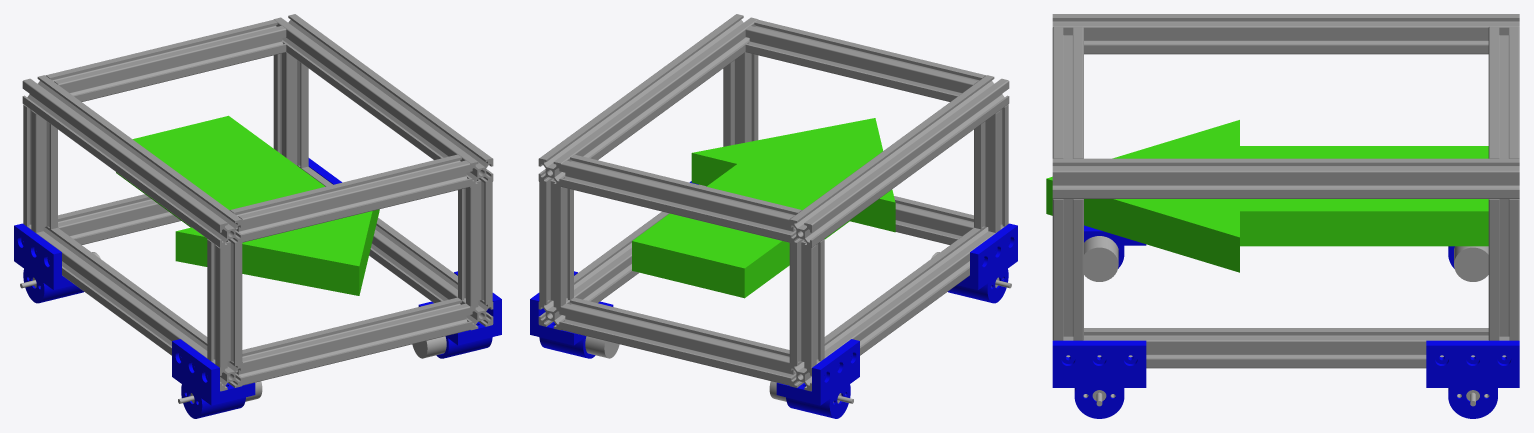
File: Chassis.dae
3 views of the same model, side by side, from view 1: azimuth 30°, elevation 25°; view 2: azimuth 150°, elevation 25°; view 3: azimuth 270°, elevation 25° (orthographic). The views are drawn at different scales.
Visible parts, largest first — view 1: 2020 300mm (×4), 2020 200mm (×4), Part 1, 2020 100mm (×4), Motor Mount (×3), Motor; view 2: 2020 300mm (×4), 2020 200mm (×4), Part 1, 2020 100mm (×4), Motor Mount (×3), Motor; view 3: 2020 300mm (×3), Part 1, Motor Mount (×3), 2020 100mm (×2), 2020 200mm (×2), Motor (×2).
Part boxes in pixels (x1,y1,x2,y2): 2020 300mm (×4): [22, 14, 493, 391]; 2020 200mm (×4): [46, 19, 470, 385]; Part 1: [116, 115, 379, 295]; 2020 100mm (×4): [23, 52, 492, 367]; Motor Mount (×3): [14, 223, 501, 418]; Motor: [412, 336, 446, 358]; 2020 300mm (×4): [538, 14, 1009, 391]; 2020 200mm (×4): [561, 19, 985, 385]; Part 1: [632, 118, 895, 298]; 2020 100mm (×4): [539, 52, 1008, 367]; Motor Mount (×3): [530, 223, 1017, 418]; Motor: [585, 336, 619, 358]; 2020 300mm (×3): [1052, 14, 1519, 368]; Part 1: [1046, 120, 1488, 272]; Motor Mount (×3): [1052, 225, 1519, 418]; 2020 100mm (×2): [1052, 199, 1519, 340]; 2020 200mm (×2): [1052, 26, 1519, 158]; Motor (×2): [1084, 236, 1488, 281].
Bounding box in the file's own units: 0.277 × 0.3043 × 0.172.
